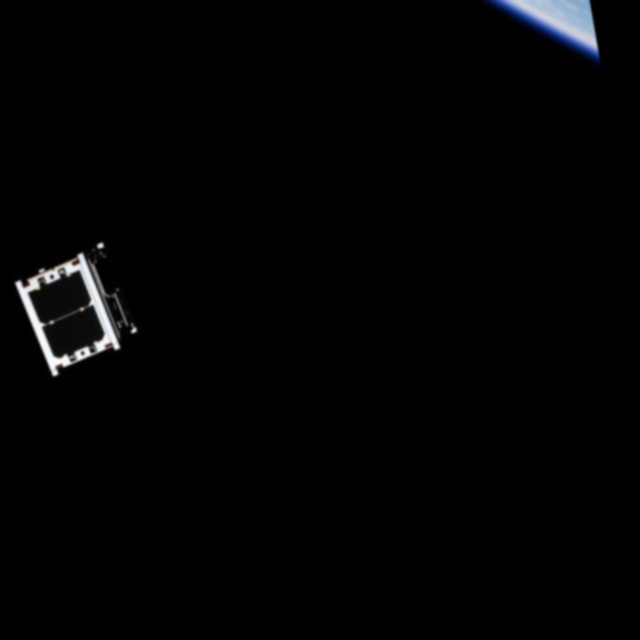medium_debris: (1, 235, 143, 385)
